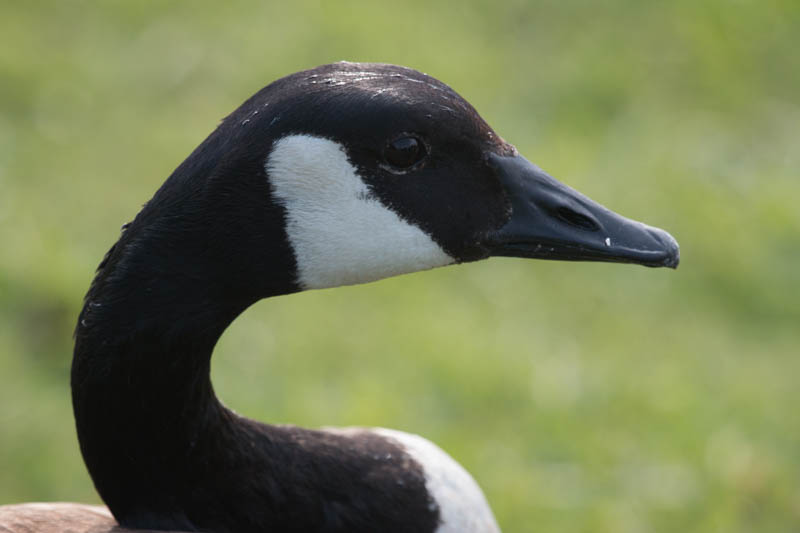goose-head: (208, 60, 681, 296)
